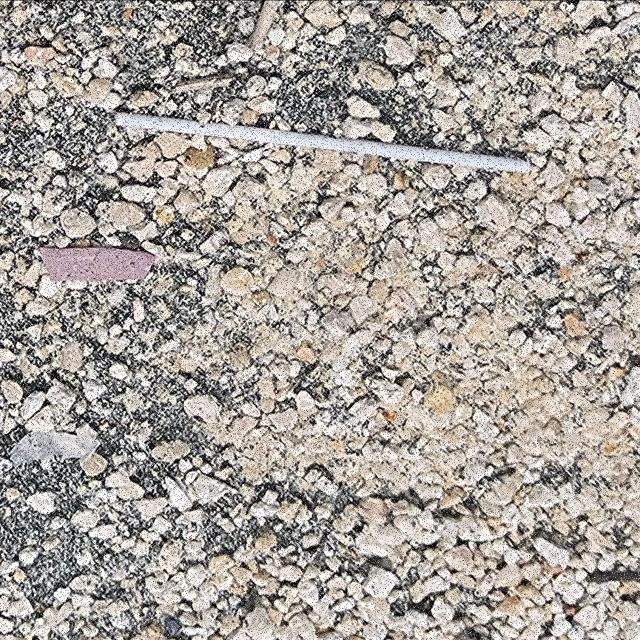plastic_waste: (114, 113, 534, 175)
